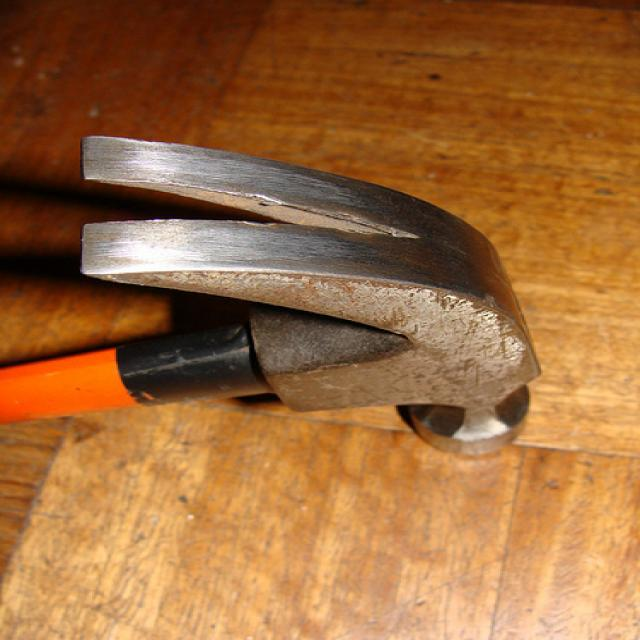hammer: (0, 124, 559, 476)
